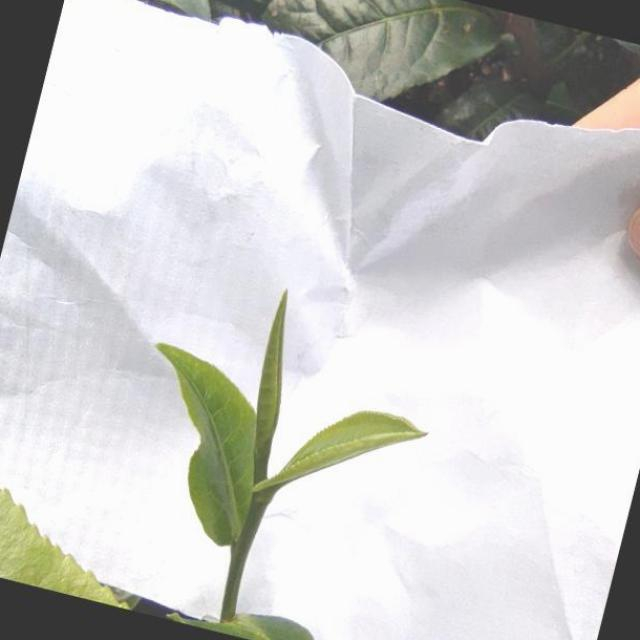Stem: (252, 495, 266, 512)
